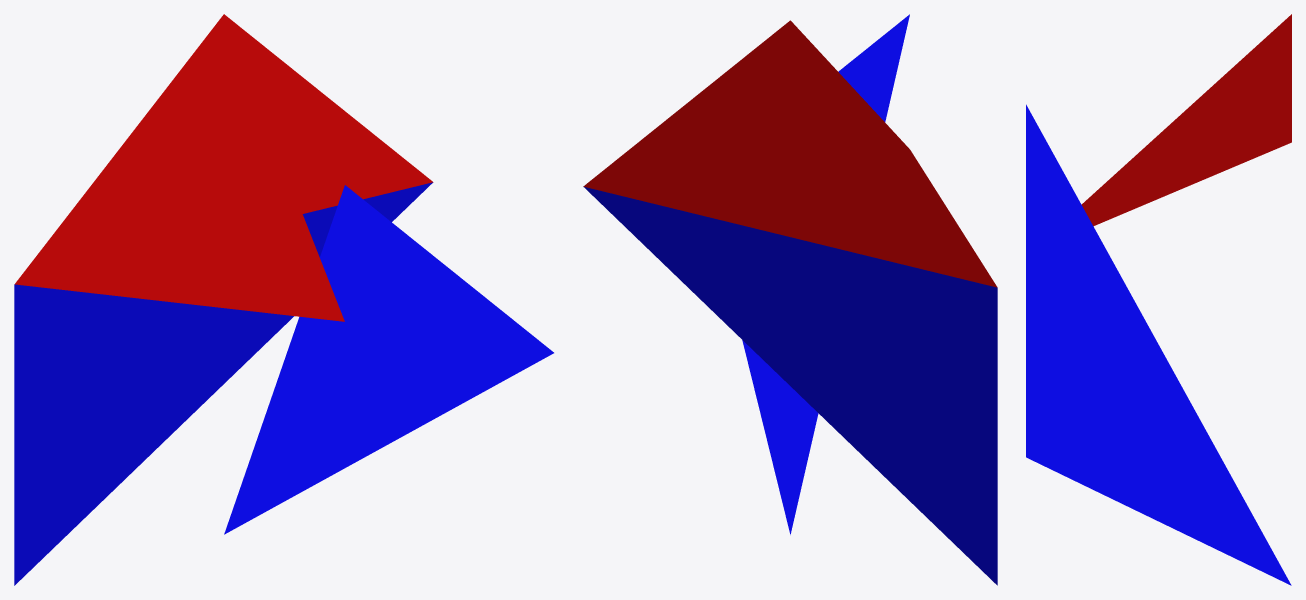
The model's file is seed_multi_material_morph.fbx.
3 renders of one model, left to right at view 1: azimuth 30°, elevation 25°; view 2: azimuth 150°, elevation 25°; view 3: azimuth 270°, elevation 25°, orthographic. The views are drawn at different scales.
Visible parts, largest first — view 1: MultiMatObj; view 2: MultiMatObj; view 3: MultiMatObj.
Part boxes in pixels (x1=…): MultiMatObj: x1=14, y1=14, x2=553, y2=585; MultiMatObj: x1=583, y1=14, x2=997, y2=585; MultiMatObj: x1=1026, y1=14, x2=1291, y2=585.
Size of the model in its own units: 2 by 2.38 by 1.
